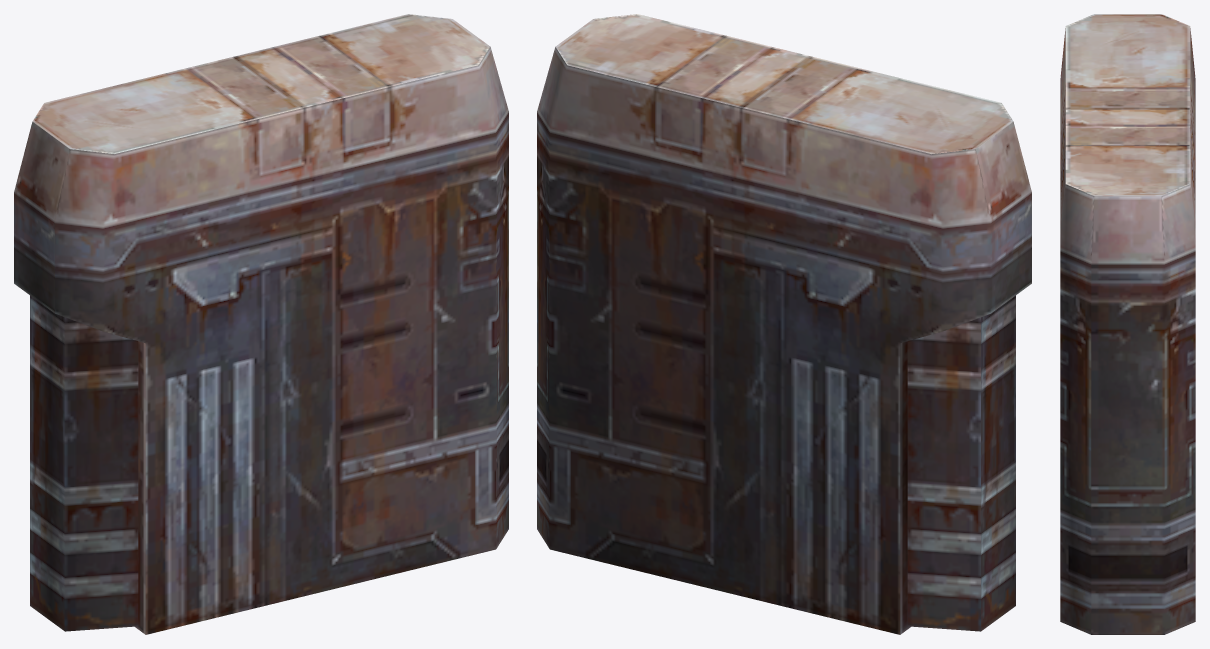
The model's file is tyt_arch_fleshraider_junk_02.glb.
The picture shows the model from 3 angles, left to right: view 1: azimuth 30°, elevation 25°; view 2: azimuth 150°, elevation 25°; view 3: azimuth 270°, elevation 25°; orthographic projection. The views are drawn at different scales.
Parts seen in each view (by area): view 1: tyt_arch_fleshraider_junk_02; view 2: tyt_arch_fleshraider_junk_02; view 3: tyt_arch_fleshraider_junk_02.
Boxes of the visible parts, <box> form: tyt_arch_fleshraider_junk_02: <box>14,14,508,634</box>; tyt_arch_fleshraider_junk_02: <box>537,14,1031,634</box>; tyt_arch_fleshraider_junk_02: <box>1060,14,1195,634</box>.
Size of the model in its own units: 0.3094 by 0.3163 by 0.09.
1 material, 1 textured.
